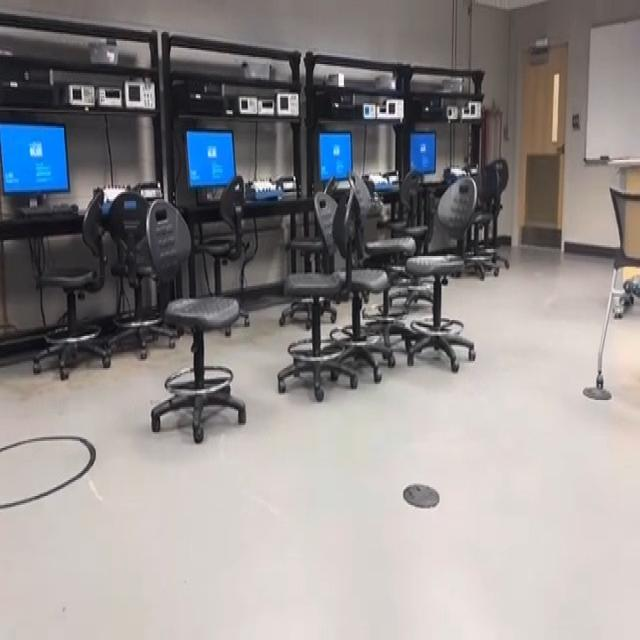drone: (357, 172, 394, 228)
